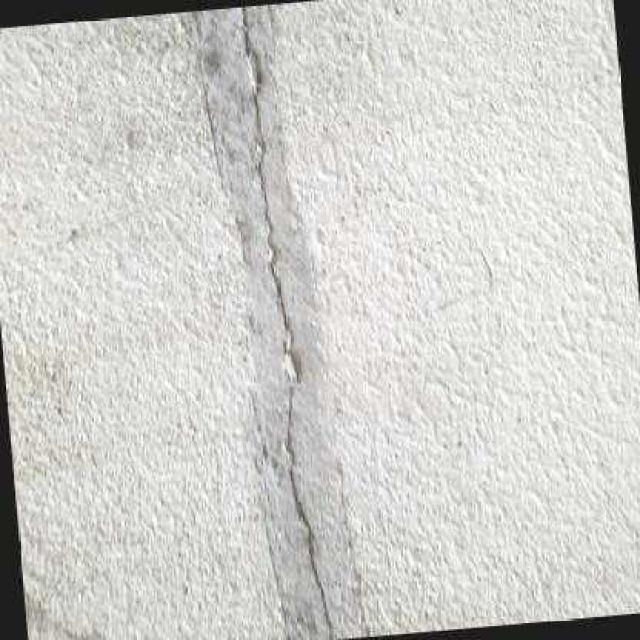D00: (288, 470, 331, 640), (270, 264, 287, 341), (251, 86, 264, 150), (257, 161, 267, 216), (240, 5, 249, 57), (286, 386, 291, 448)
